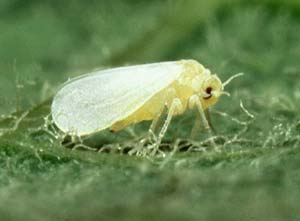whitefly: (54, 57, 232, 153)
